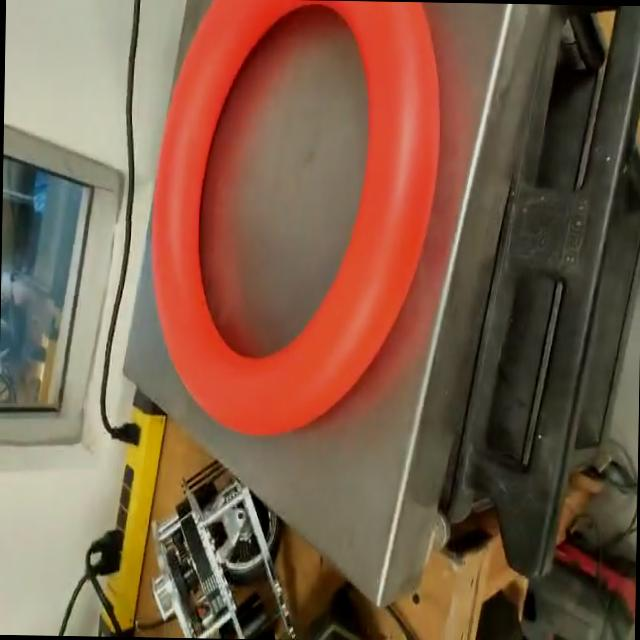note: (142, 0, 445, 439)
